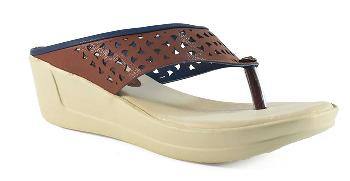Footwear: (26, 20, 340, 168)
